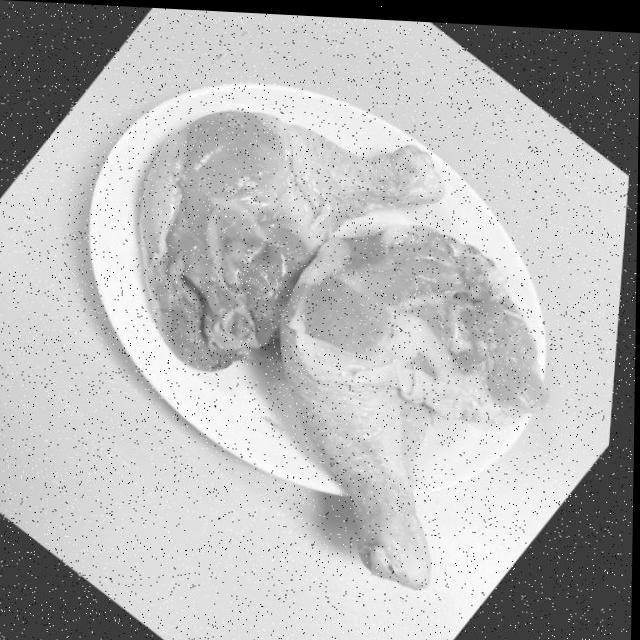quater: (296, 206, 542, 613), (111, 78, 396, 347)
